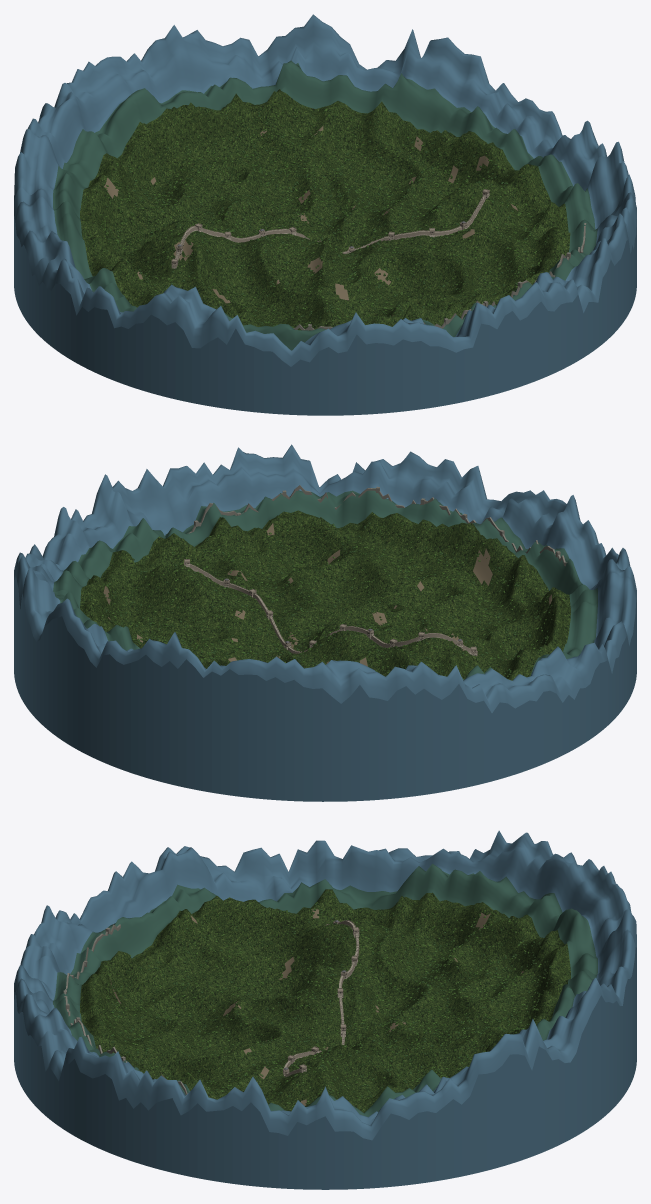
File: great-wall.glb
3 views of the same model, one above another, from view 1: azimuth 30°, elevation 25°; view 2: azimuth 150°, elevation 25°; view 3: azimuth 270°, elevation 25° (orthographic).
Visible parts, largest first — view 1: GreatWall; view 2: GreatWall; view 3: GreatWall.
Boxes of the visible parts, x1,y1,x2,y2 form: GreatWall: (14, 14, 636, 415); GreatWall: (14, 444, 636, 801); GreatWall: (14, 830, 636, 1189).
Size of the model in its own units: 1280 by 337 by 1280.
Materials: 16 (5 with a texture image).
